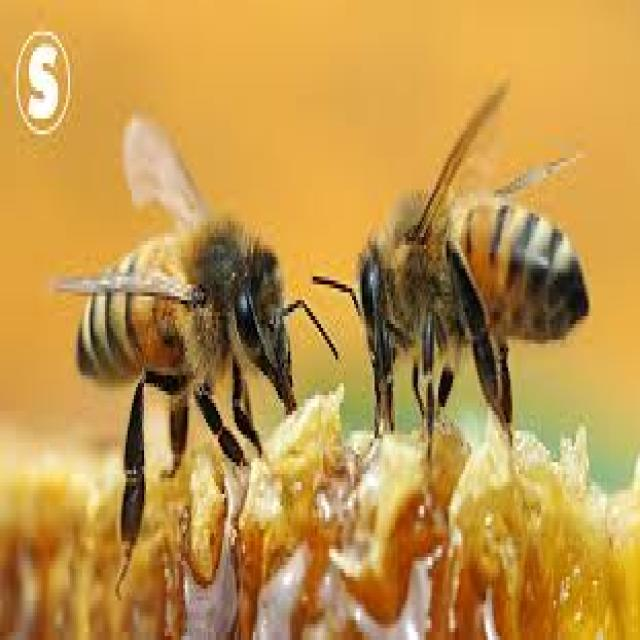Bees: (53, 108, 338, 570), (313, 81, 592, 473)
